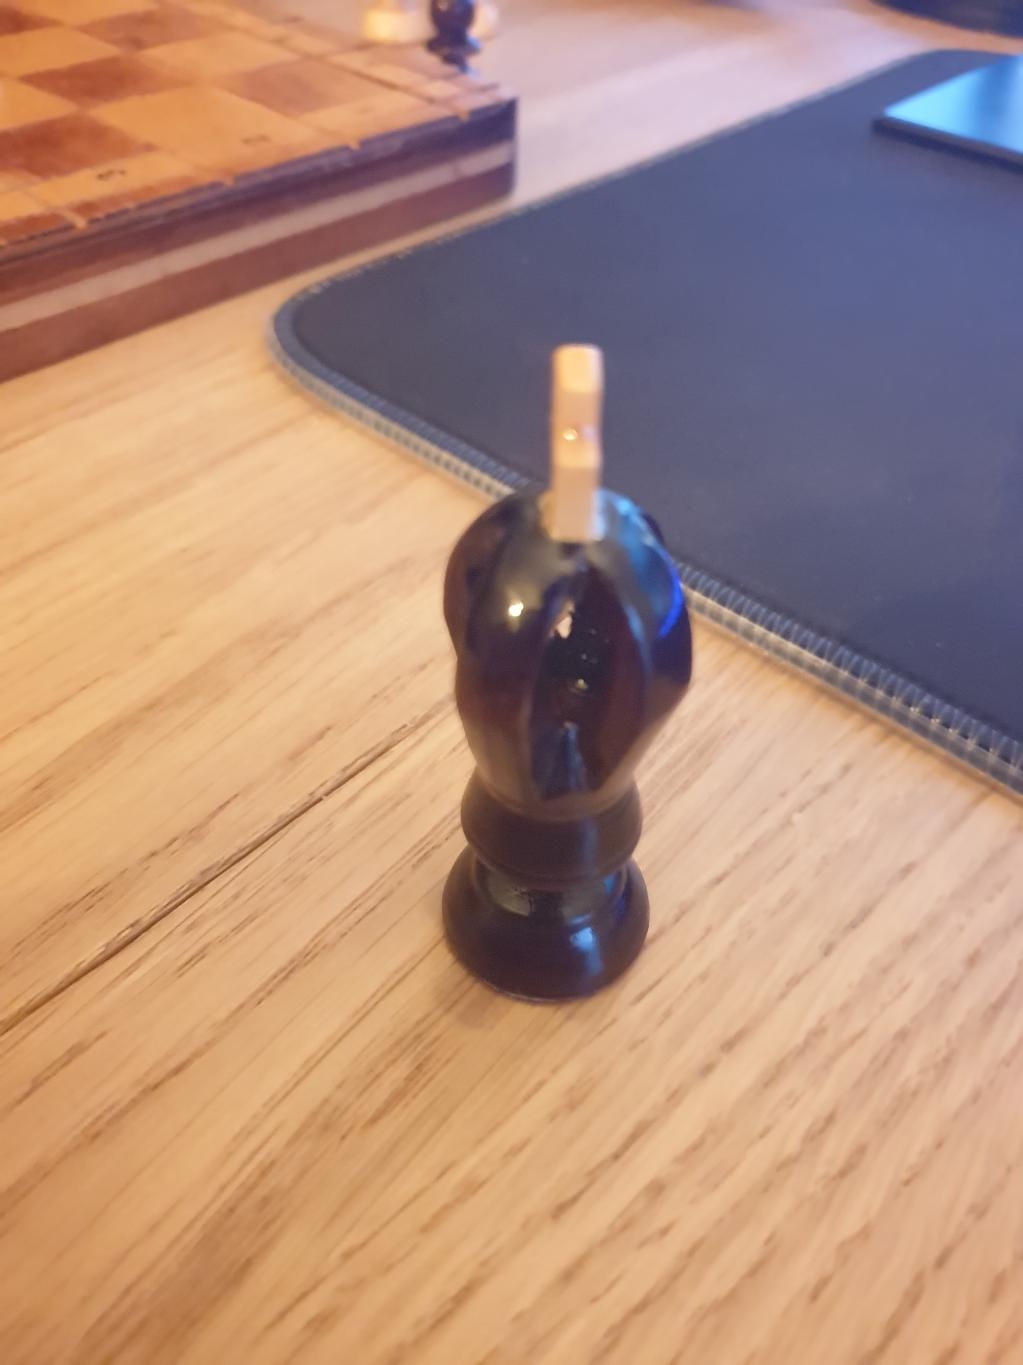bking: (440, 342, 694, 1007)
